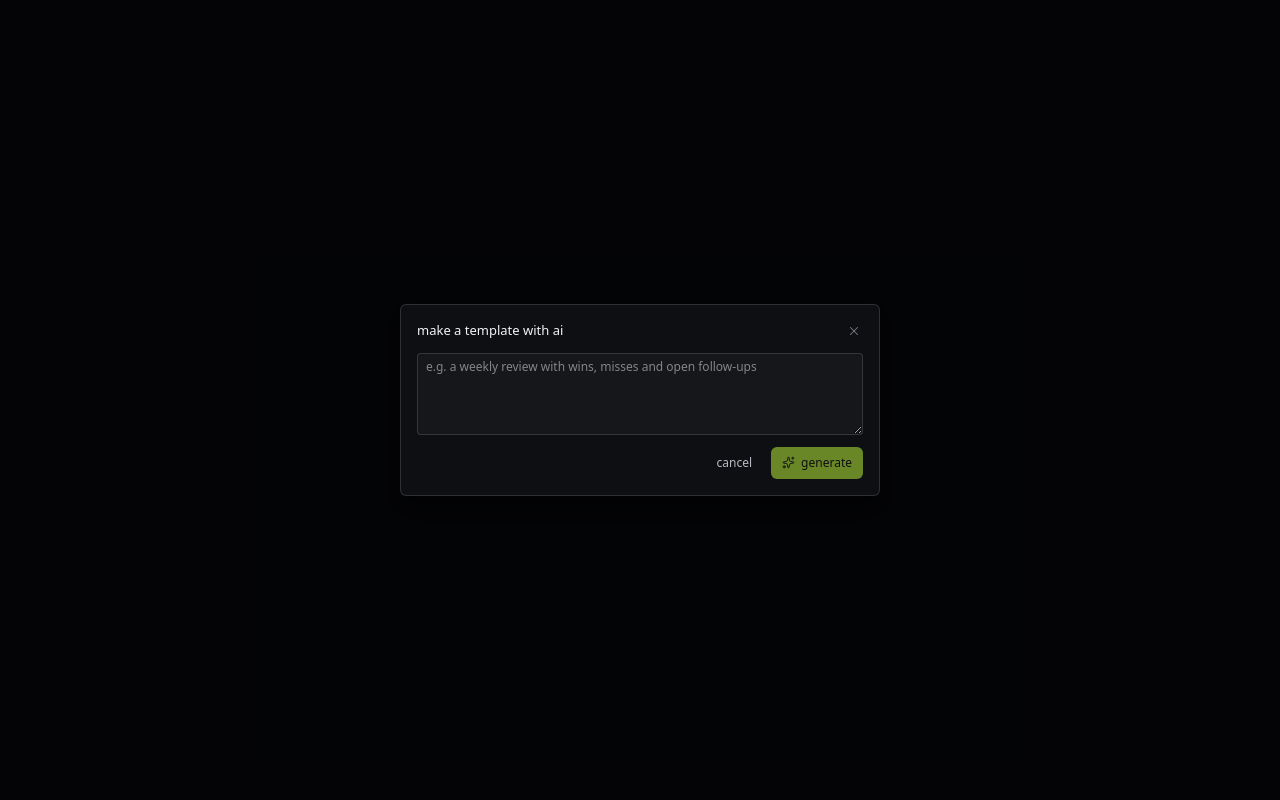
it: MakeTemplateDialog › shows a provider or sidecar error
Type "standup" into the text box named "describe the template" at (640, 394), box top-left (417, 353), bottom-right (863, 435)
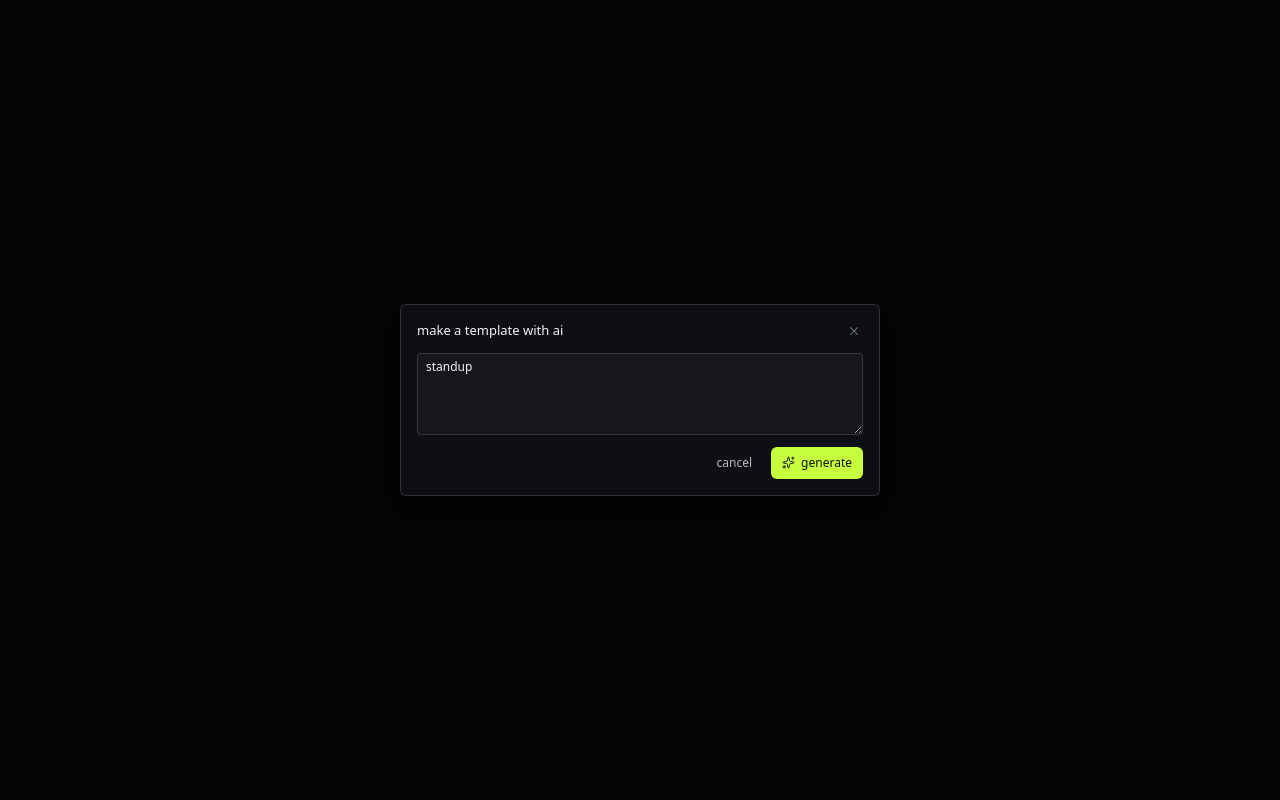
Click the button "generate" at (817, 463), box top-left (771, 447), bottom-right (863, 479)
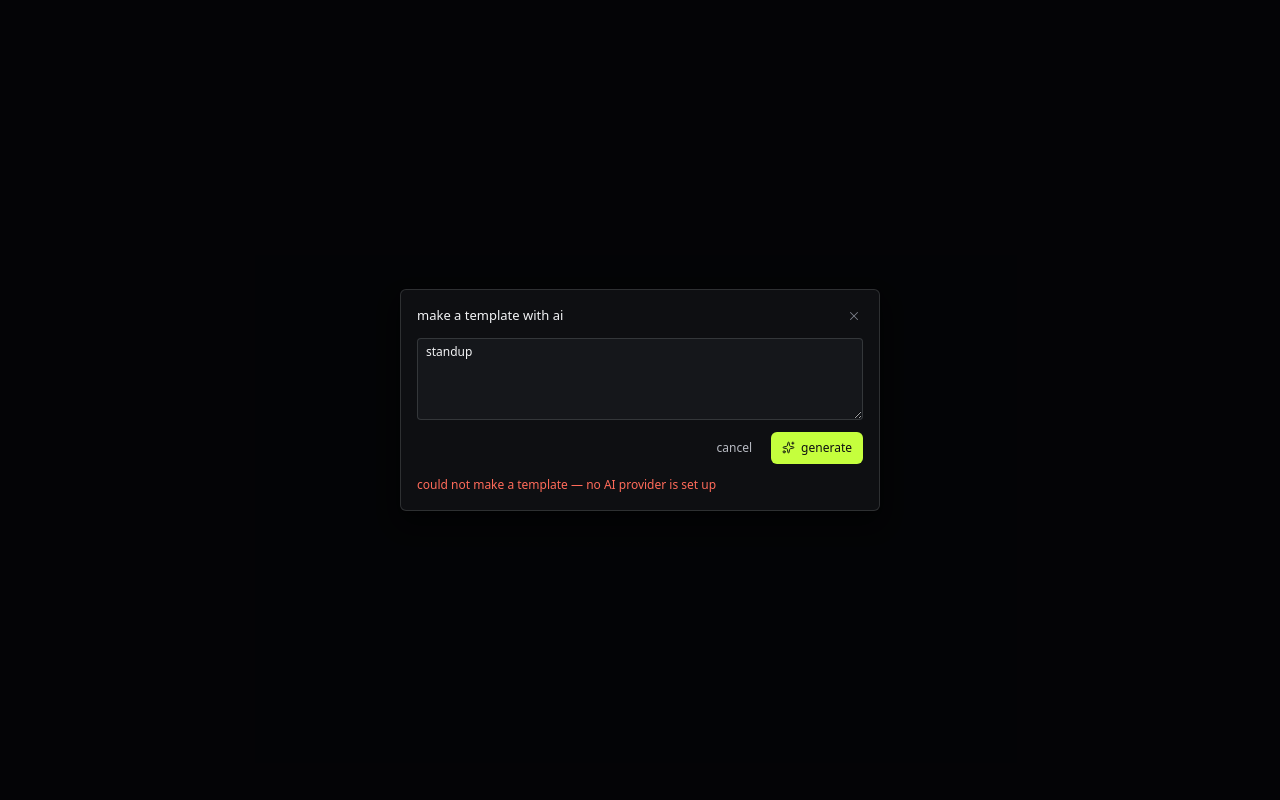
Now the message reads "could not make a template — no AI provider is set up", box top-left (417, 476), bottom-right (716, 493)
